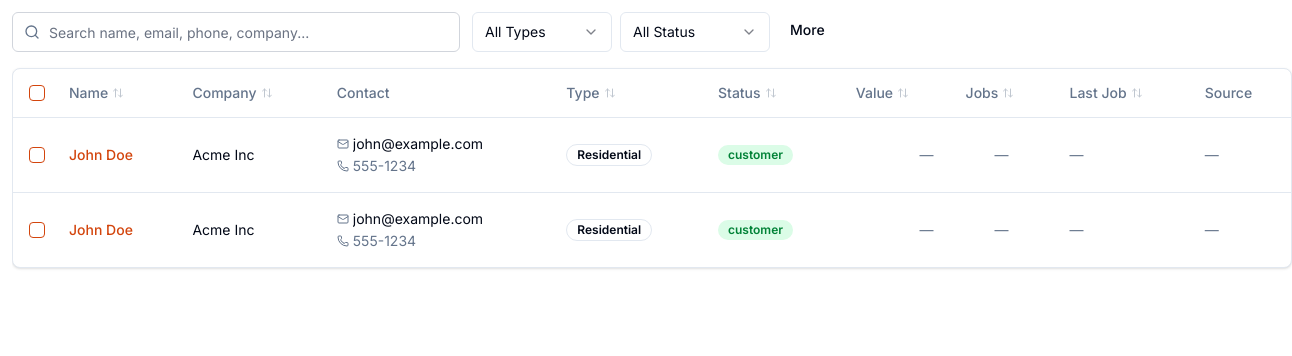
Scenario: CustomerList › bulk selection › selects all rows via the header checkbox
The width and height of the screenshot is (1292, 356).
Step 1. Click the checkbox named "select all contacts" → click(37, 93), box [29,85,45,101]
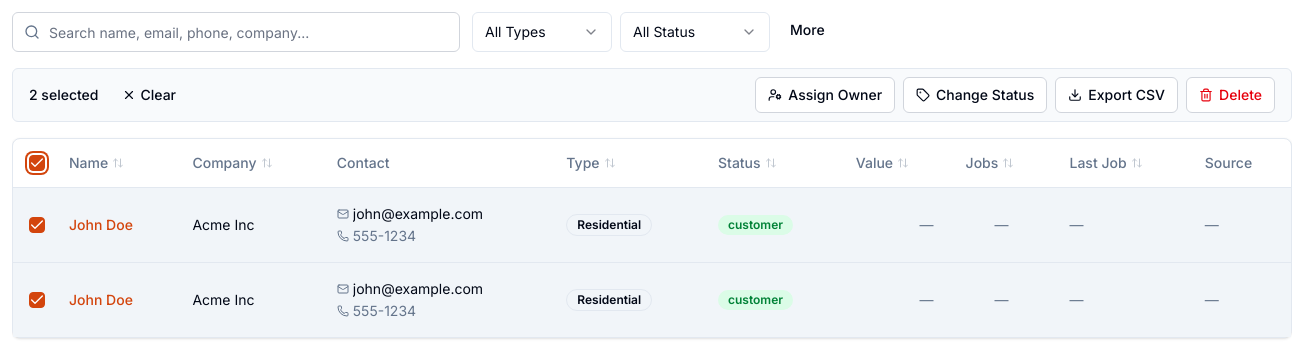
Expected: the text "2 selected" is shown, [29,85,98,105]
